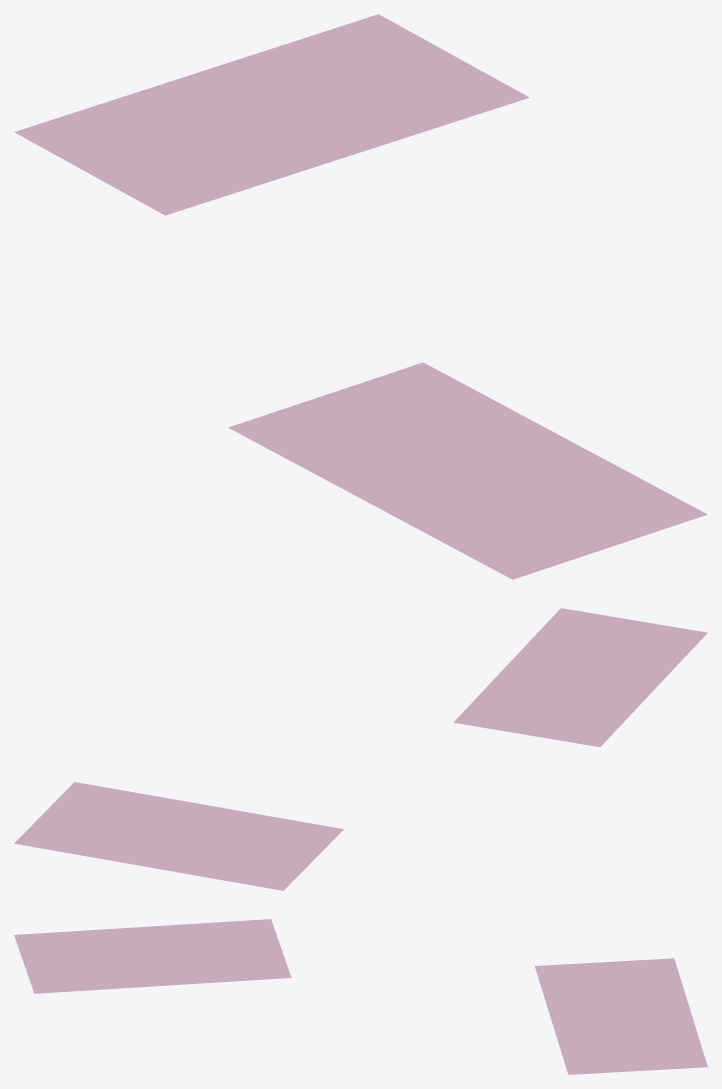
File: Bath_mats.fbx
3 renders of one model, top to bottom at view 1: azimuth 30°, elevation 25°; view 2: azimuth 150°, elevation 25°; view 3: azimuth 270°, elevation 25°, orthographic. The views are drawn at different scales.
Parts seen in each view (by area): view 1: Bathroom_mat, Bathroom_mat.001; view 2: Bathroom_mat, Bathroom_mat.001; view 3: Bathroom_mat.001, Bathroom_mat.
Boxes of the visible parts, x1=… form: Bathroom_mat: x1=14, y1=14, x2=529, y2=215; Bathroom_mat.001: x1=228, y1=362, x2=707, y2=579; Bathroom_mat: x1=14, y1=782, x2=343, y2=890; Bathroom_mat.001: x1=453, y1=608, x2=707, y2=747; Bathroom_mat.001: x1=14, y1=919, x2=291, y2=993; Bathroom_mat: x1=534, y1=958, x2=707, y2=1074.
Bounding box in the file's own units: 284 × 3.48e-05 × 534.
